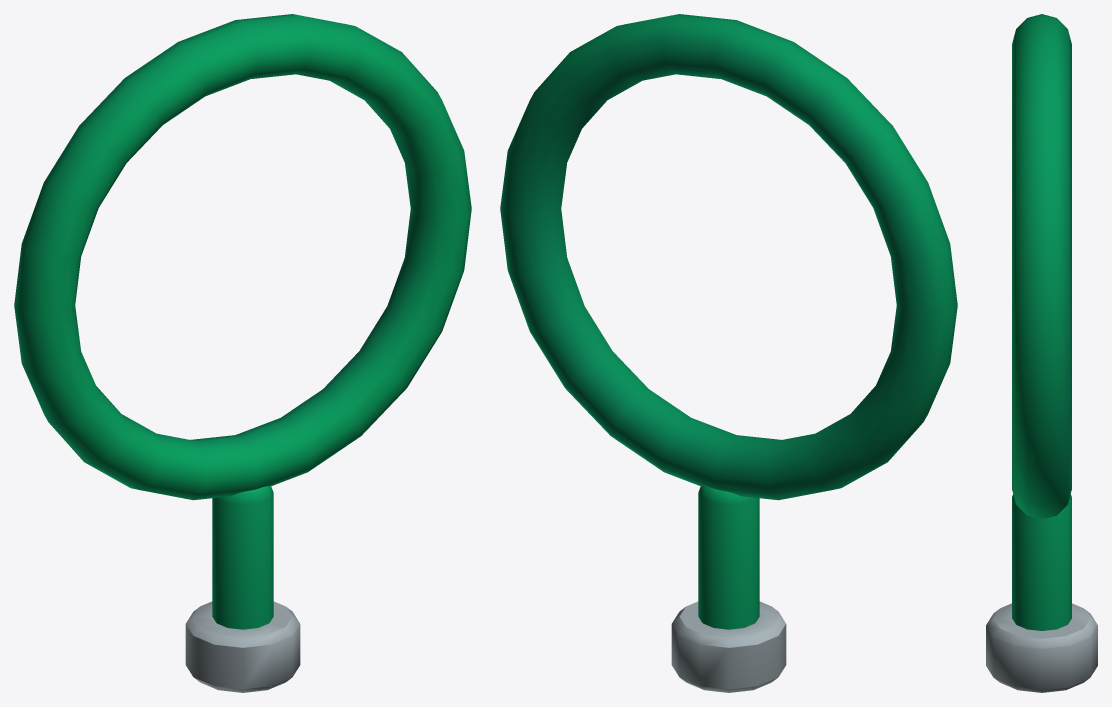
The model's file is hoop_green.glb.
The picture shows the model from 3 angles, left to right: view 1: azimuth 30°, elevation 25°; view 2: azimuth 150°, elevation 25°; view 3: azimuth 270°, elevation 25°; orthographic projection. The views are drawn at different scales.
Parts seen in each view (by area): view 1: hoop_green; view 2: hoop_green; view 3: hoop_green.
Part boxes in pixels (x1,y1,x2,y2): hoop_green: (14,14,471,692); hoop_green: (500,14,957,692); hoop_green: (986,14,1097,692).
Bounding box in the file's own units: 3.4 × 4.7 × 0.75.
1 material, 1 textured.
